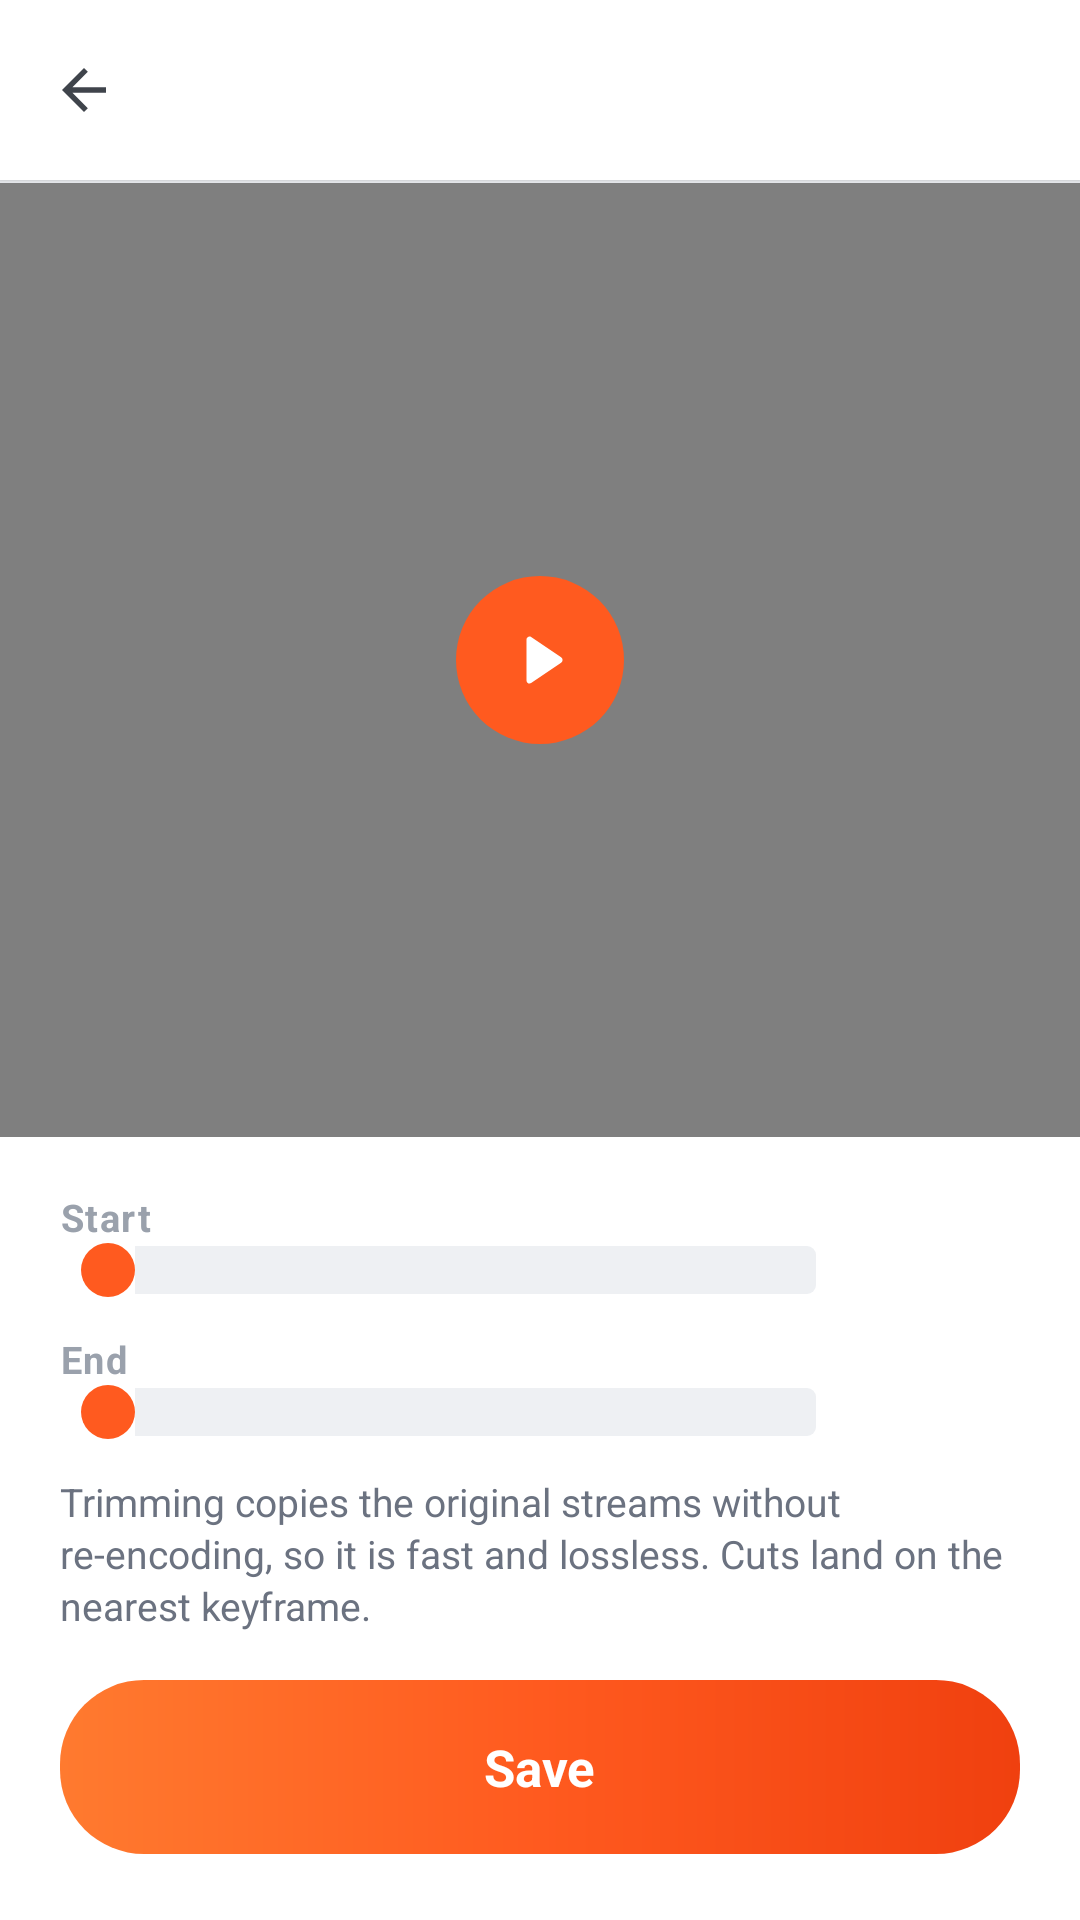

Where to tap for icons on this 1080x1920 app screen, as (x,y):
Play: (540,660)
